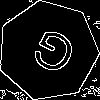G: (23, 26, 81, 86)
